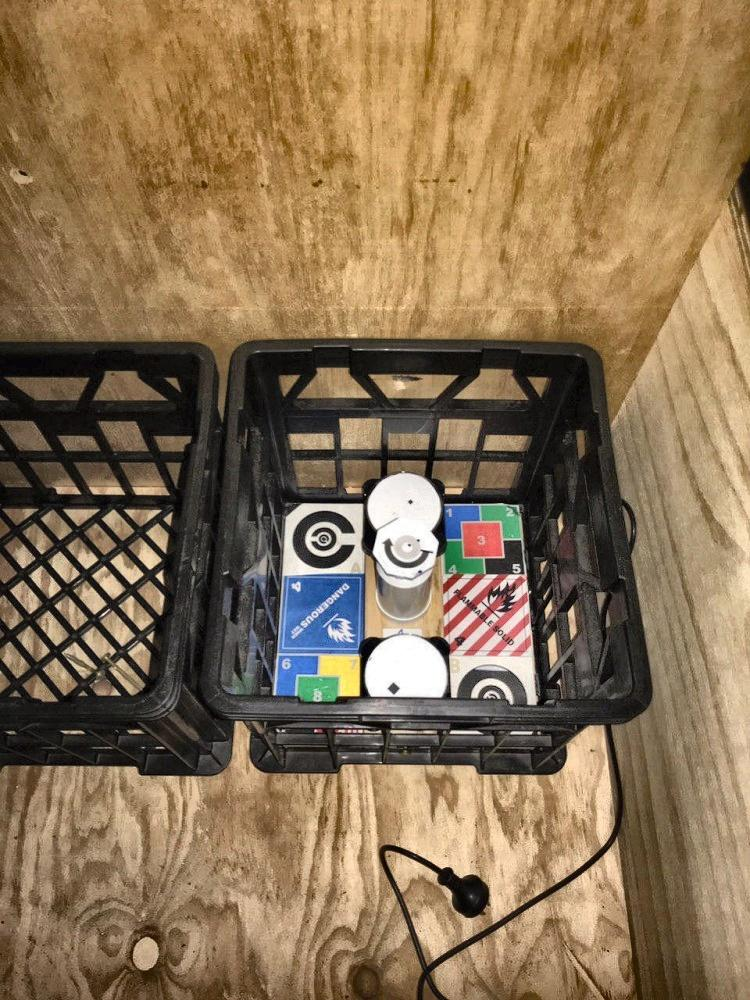dangerous-when-wet: (281, 576, 366, 654)
flammable-solid: (441, 575, 530, 658)
